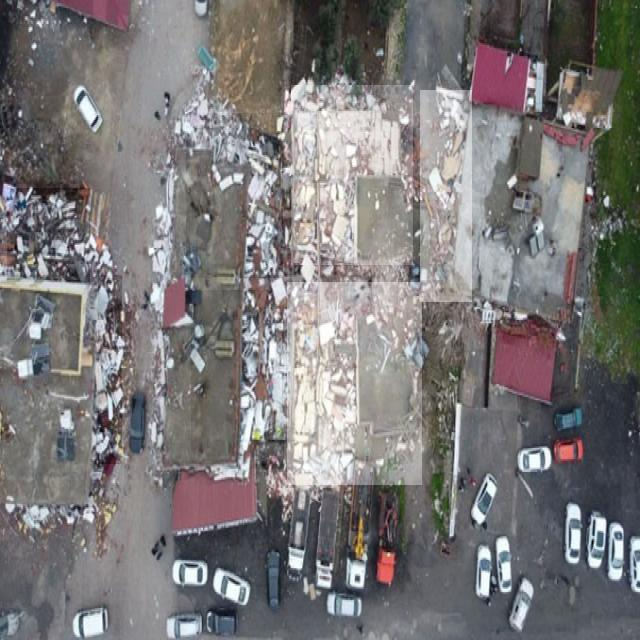Rubble: (287, 282, 422, 485), (292, 86, 414, 266), (191, 290, 284, 469), (186, 113, 283, 278), (420, 90, 472, 302), (7, 188, 90, 282), (98, 275, 122, 464)
